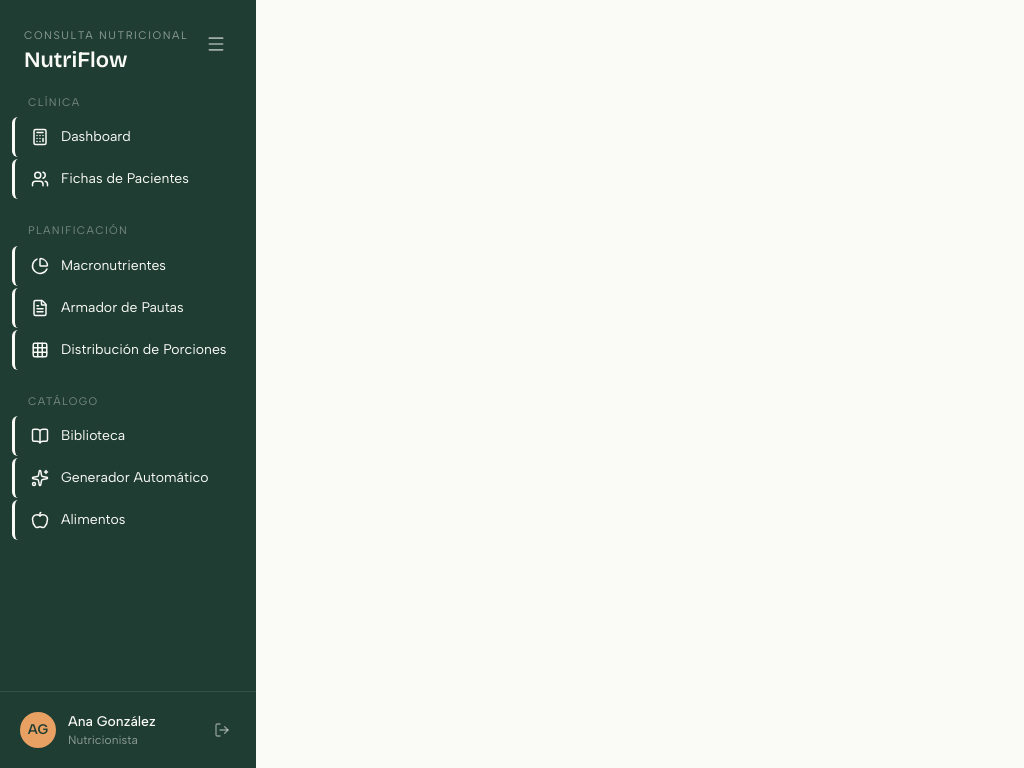
it: Sidebar › modal de logout › clic en Cancelar cierra el modal sin cerrar sesión
Click the button titled "Cerrar sesión": click(222, 730) x1=208 y1=716 x2=236 y2=744
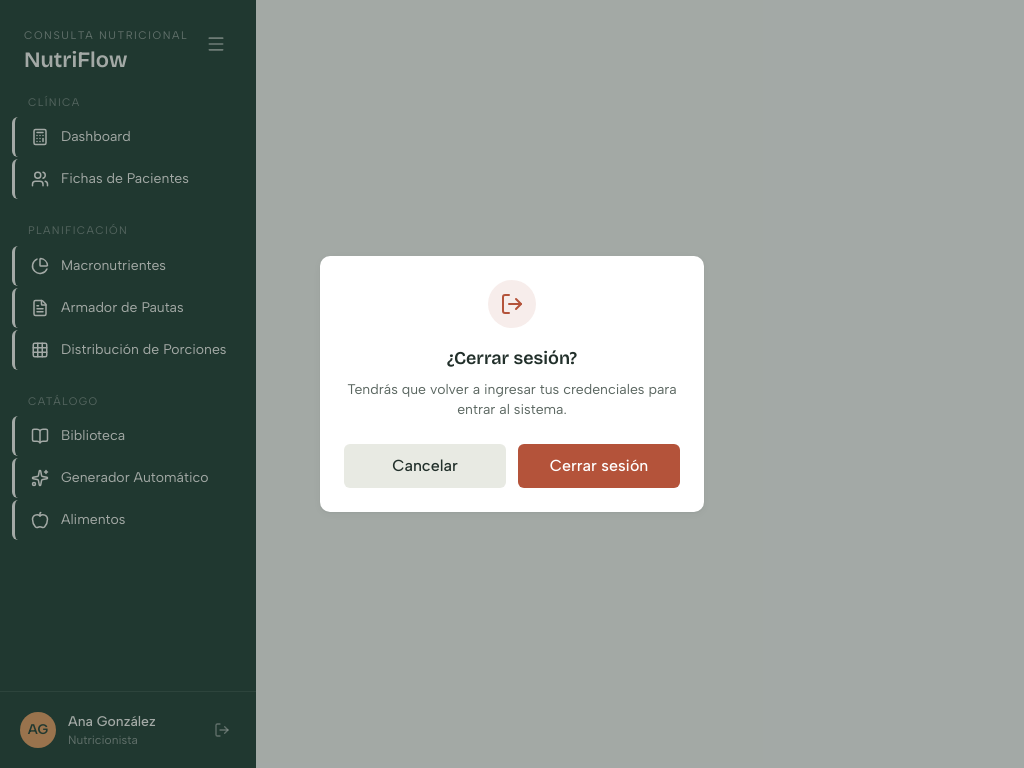
Click the button "Cancelar": click(425, 466) x1=344 y1=444 x2=506 y2=488
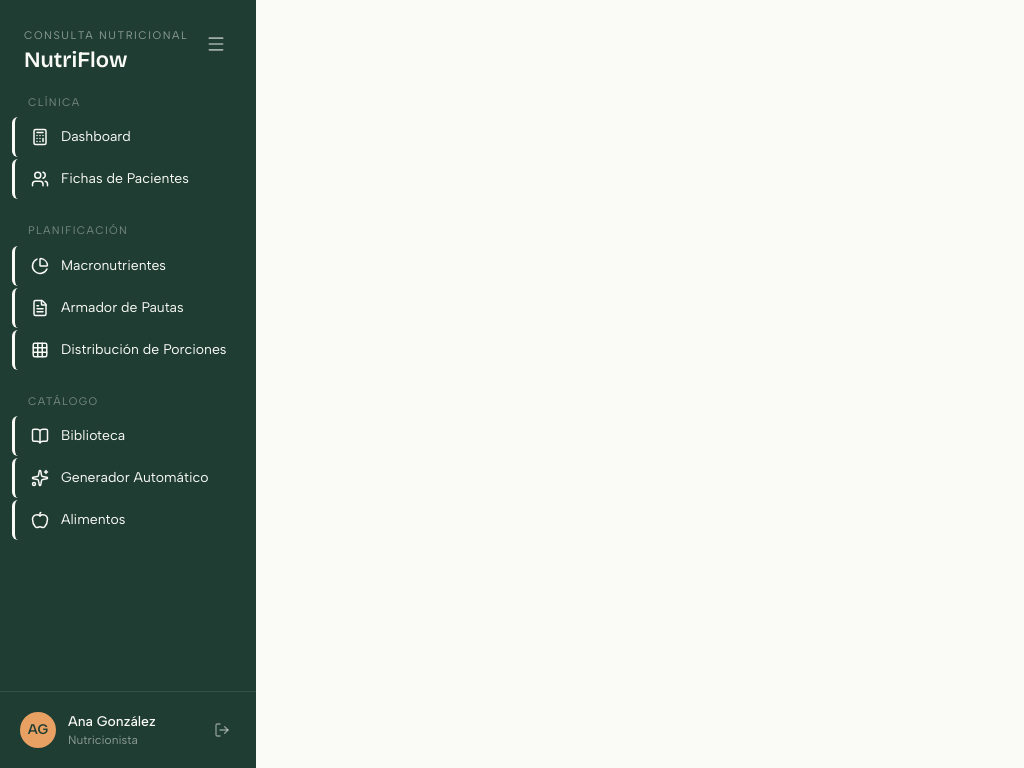
Check: the heading "¿Cerrar sesión?" is gone
